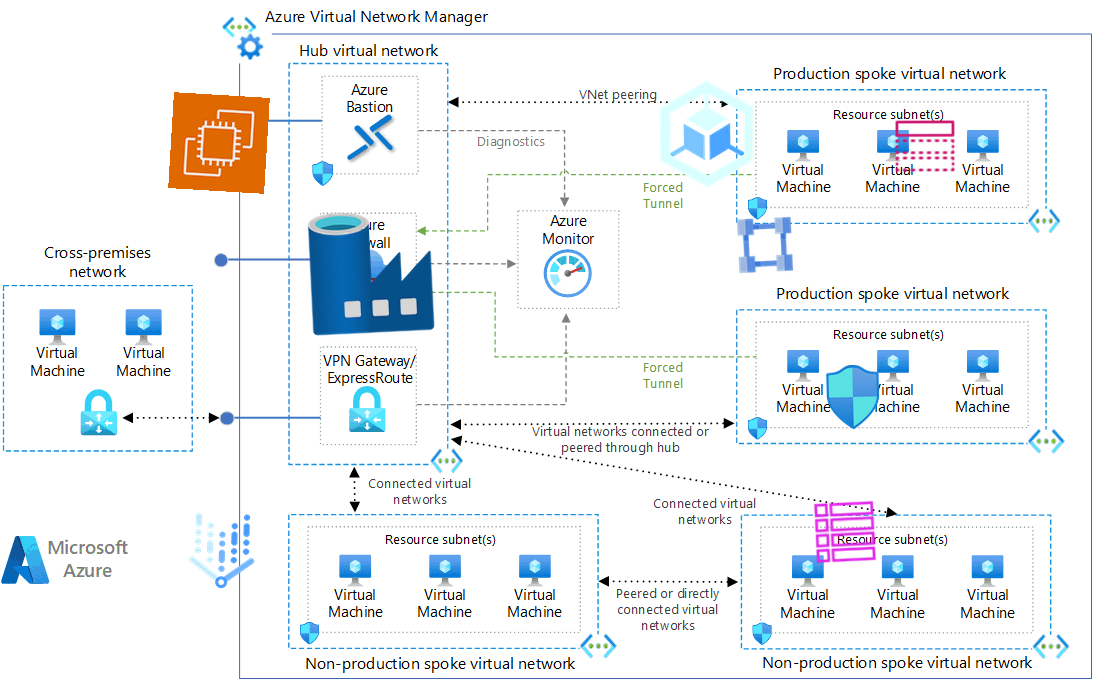aws_amazon_ec2: (168, 92, 270, 194)
aws_dynamodb_table: (811, 498, 879, 566)
aws_simple_notification_service_topic: (892, 113, 958, 179)
azure_data_factories: (303, 204, 439, 340)
azure_network_security_groups: (820, 364, 886, 430)
gcp_google_kubernetes_engine: (642, 69, 772, 199)
gcp_vertex_ai: (172, 501, 272, 601)
gcp_virtual_private_cloud: (731, 211, 799, 279)
